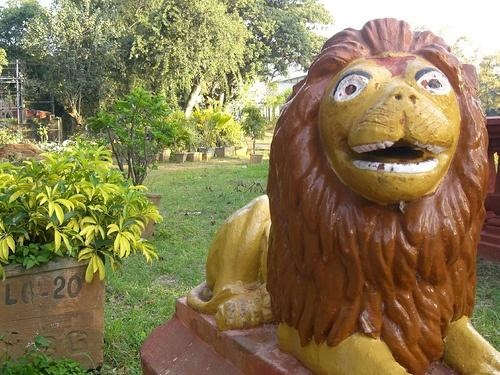pottedplant: (1, 142, 164, 371), (89, 90, 177, 242), (213, 107, 245, 159), (242, 104, 267, 166), (171, 113, 191, 163), (206, 111, 221, 162), (191, 117, 206, 163)
